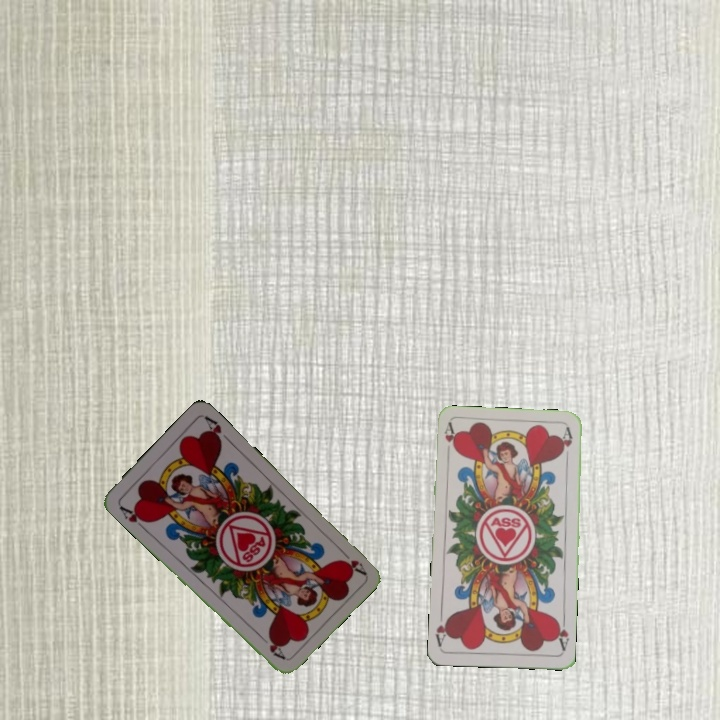HA: (115, 502, 151, 532), (335, 545, 368, 577), (552, 613, 571, 653), (440, 420, 458, 461)
